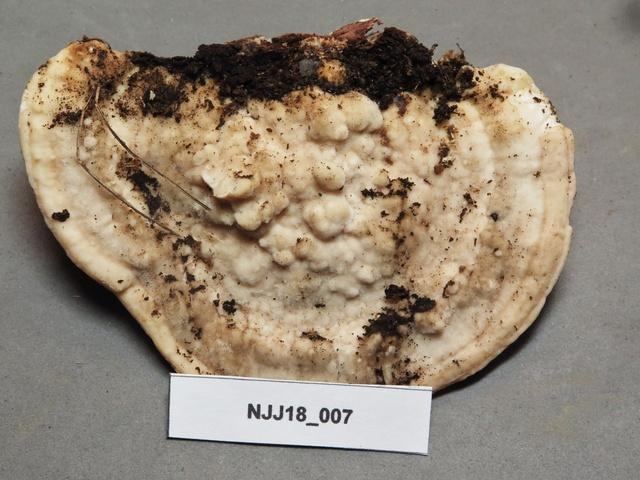poisonous_mushroom: (17, 16, 577, 394)
